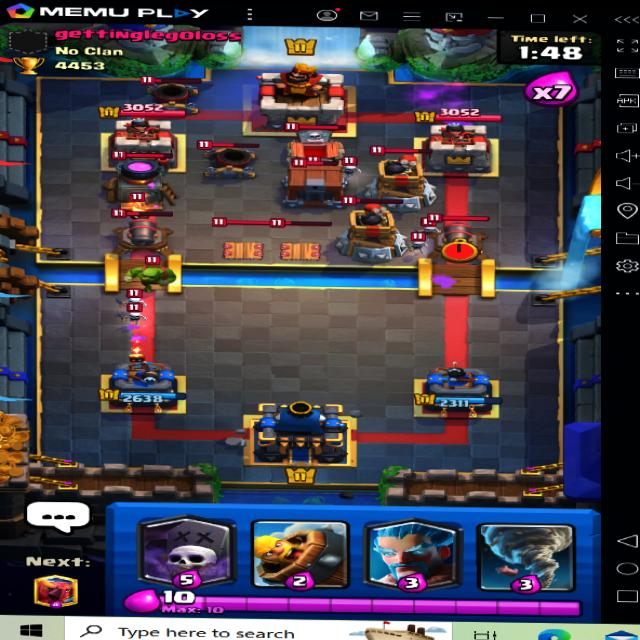bomb-tower: (338, 191, 416, 262), (358, 142, 438, 210)
brawler: (127, 253, 178, 292)
cannon: (420, 213, 494, 265), (115, 207, 177, 252)
fire-spirit: (118, 201, 148, 223)
furnace: (107, 150, 184, 210)
goblin-cage: (282, 153, 354, 204)
mortar: (140, 65, 208, 113), (196, 140, 259, 172)
skeleton: (124, 304, 154, 328), (118, 288, 152, 305), (414, 215, 440, 236), (404, 233, 424, 253)
tesla-closed: (267, 216, 334, 262), (211, 214, 273, 261)
tombstone: (280, 119, 355, 163)
